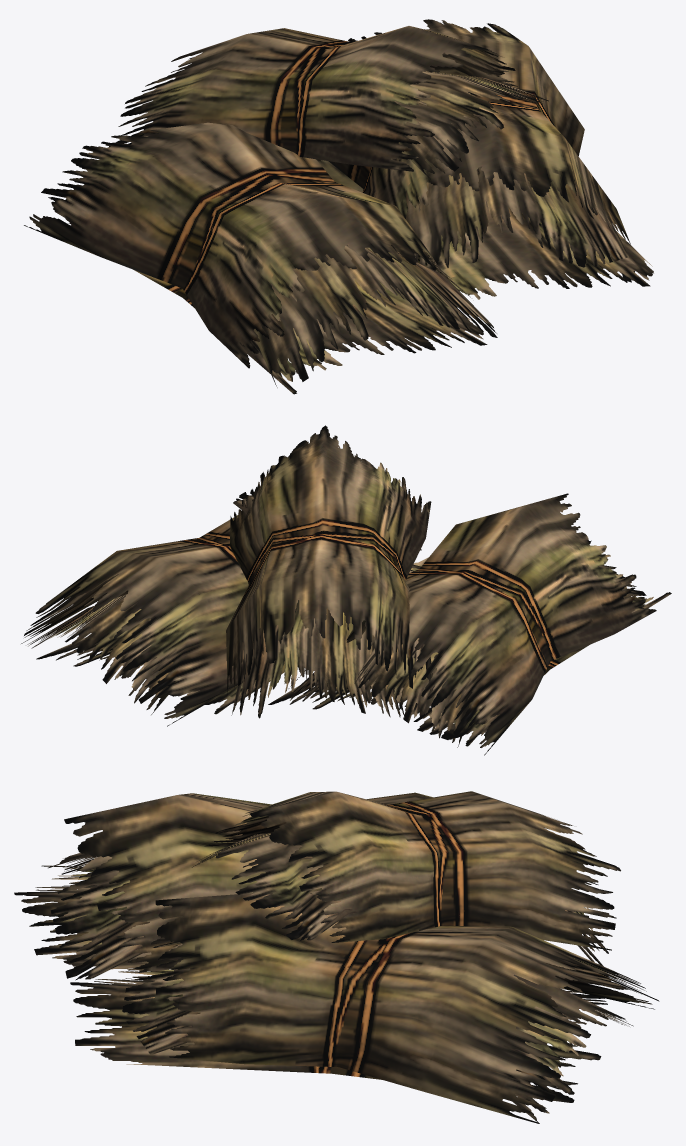
Rendered from PRP_GrassGroup.FBX.
3 renders of one model, top to bottom at view 1: azimuth 30°, elevation 25°; view 2: azimuth 150°, elevation 25°; view 3: azimuth 270°, elevation 25°, orthographic. The views are drawn at different scales.
Visible parts, largest first — view 1: PRP_GrassGroup; view 2: PRP_GrassGroup; view 3: PRP_GrassGroup.
Part boxes in pixels (bbox=[...]): PRP_GrassGroup: bbox=[24, 19, 653, 394]; PRP_GrassGroup: bbox=[21, 425, 671, 755]; PRP_GrassGroup: bbox=[14, 791, 659, 1123].
Bounding box in the file's own units: 345 × 128 × 357.
